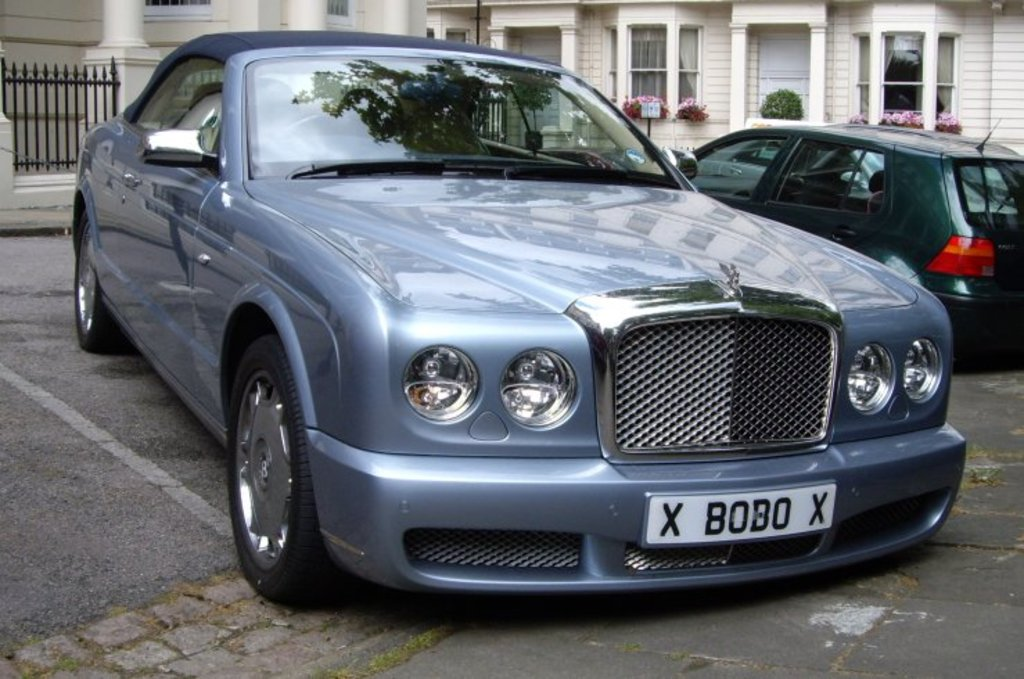cars: (68, 49, 986, 615), (676, 113, 1022, 356)
